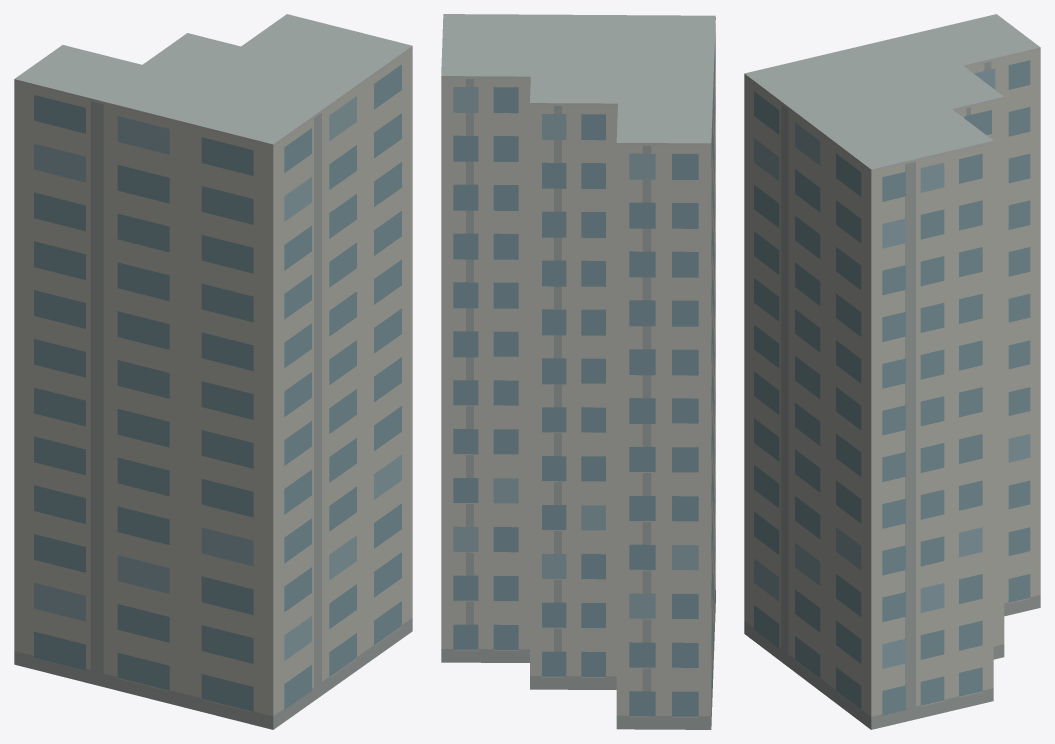
File: residential-df2600e1-3b04-41c6-8cae-36356e29af95.glb
3 renders of one model, left to right at view 1: azimuth 30°, elevation 25°; view 2: azimuth 150°, elevation 25°; view 3: azimuth 270°, elevation 25°, orthographic. The views are drawn at different scales.
Parts seen in each view (by area): view 1: residential-df2600e1-3b04-41c6-8cae-36356e29af95.tmp; view 2: residential-df2600e1-3b04-41c6-8cae-36356e29af95.tmp; view 3: residential-df2600e1-3b04-41c6-8cae-36356e29af95.tmp.
Part boxes in pixels (left/top/right/bottom): residential-df2600e1-3b04-41c6-8cae-36356e29af95.tmp: left=14, top=14, right=412, bottom=729; residential-df2600e1-3b04-41c6-8cae-36356e29af95.tmp: left=441, top=14, right=715, bottom=729; residential-df2600e1-3b04-41c6-8cae-36356e29af95.tmp: left=744, top=14, right=1040, bottom=729.
Size of the model in its own units: 30.36 by 51 by 24.45.
